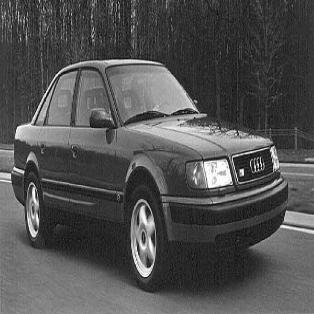Auto: (10, 59, 290, 293)
